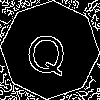Q: (25, 25, 68, 77)
